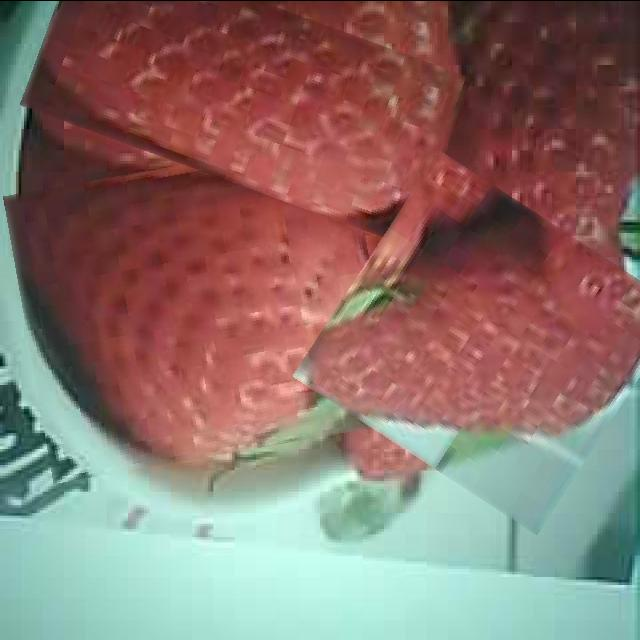strawberry: (14, 148, 386, 468), (318, 178, 640, 506), (29, 0, 463, 214)
